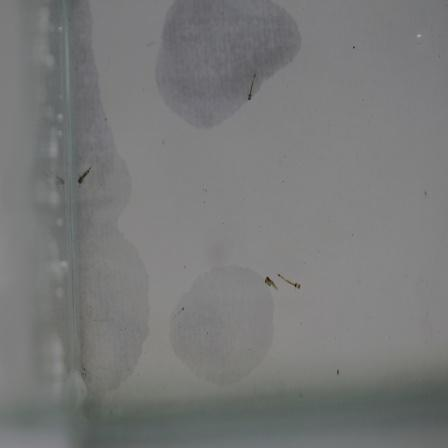Jentik-Nyamuk: (261, 268, 305, 299), (75, 161, 98, 193), (243, 70, 263, 105)
